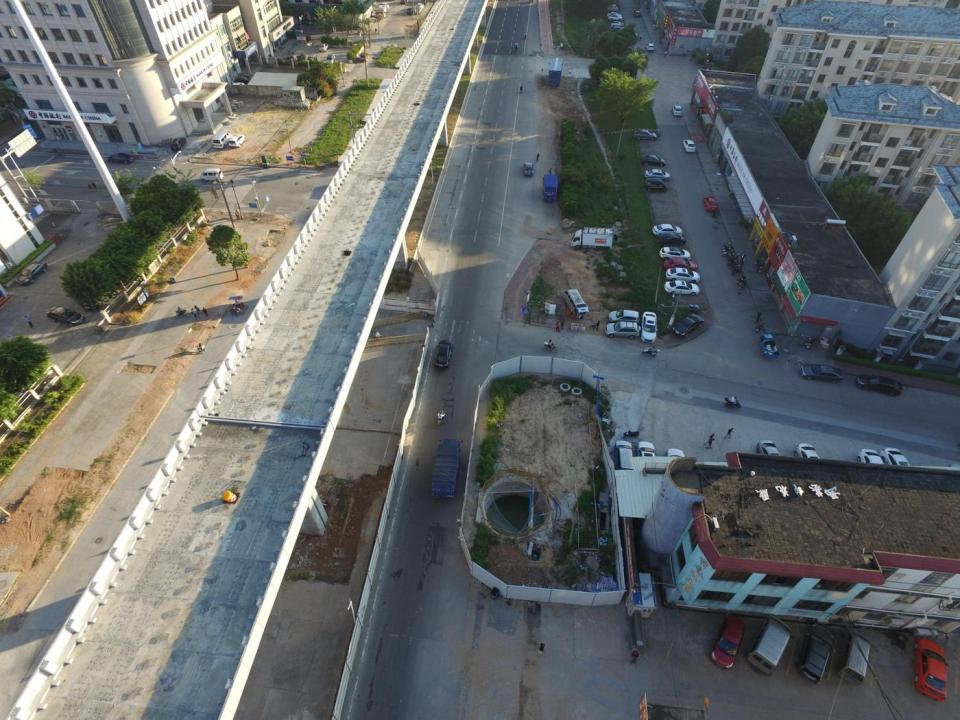bus: (564, 288, 590, 320)
car: (793, 622, 836, 686), (913, 636, 948, 703), (708, 612, 747, 670), (879, 447, 913, 489), (858, 448, 890, 490), (794, 442, 824, 480), (756, 439, 785, 478), (855, 374, 903, 397), (670, 312, 706, 338), (798, 364, 844, 384), (45, 305, 86, 327), (14, 260, 48, 286), (665, 447, 687, 482), (604, 320, 640, 340), (636, 441, 657, 473), (433, 340, 454, 371), (664, 279, 700, 296), (640, 312, 658, 344), (665, 267, 701, 283), (76, 288, 100, 312), (657, 246, 692, 262), (608, 308, 641, 324), (663, 258, 697, 271), (653, 223, 683, 236), (644, 168, 671, 182), (657, 233, 686, 246), (640, 154, 666, 167), (108, 152, 134, 165), (702, 195, 719, 211), (633, 130, 657, 141), (229, 134, 247, 148), (170, 137, 186, 152), (682, 138, 695, 153), (522, 162, 535, 176), (610, 20, 627, 29), (610, 22, 626, 31), (606, 11, 622, 20), (671, 105, 683, 116), (608, 14, 623, 22), (605, 4, 619, 12), (645, 42, 655, 53), (612, 26, 624, 35), (327, 53, 335, 64), (318, 44, 329, 52), (634, 10, 641, 18)
truck: (430, 437, 464, 500), (571, 227, 615, 250), (540, 173, 560, 205), (547, 57, 564, 88)
van: (744, 614, 793, 678), (836, 626, 871, 688), (612, 439, 635, 474), (212, 130, 232, 150), (199, 168, 225, 182), (644, 177, 667, 191)
